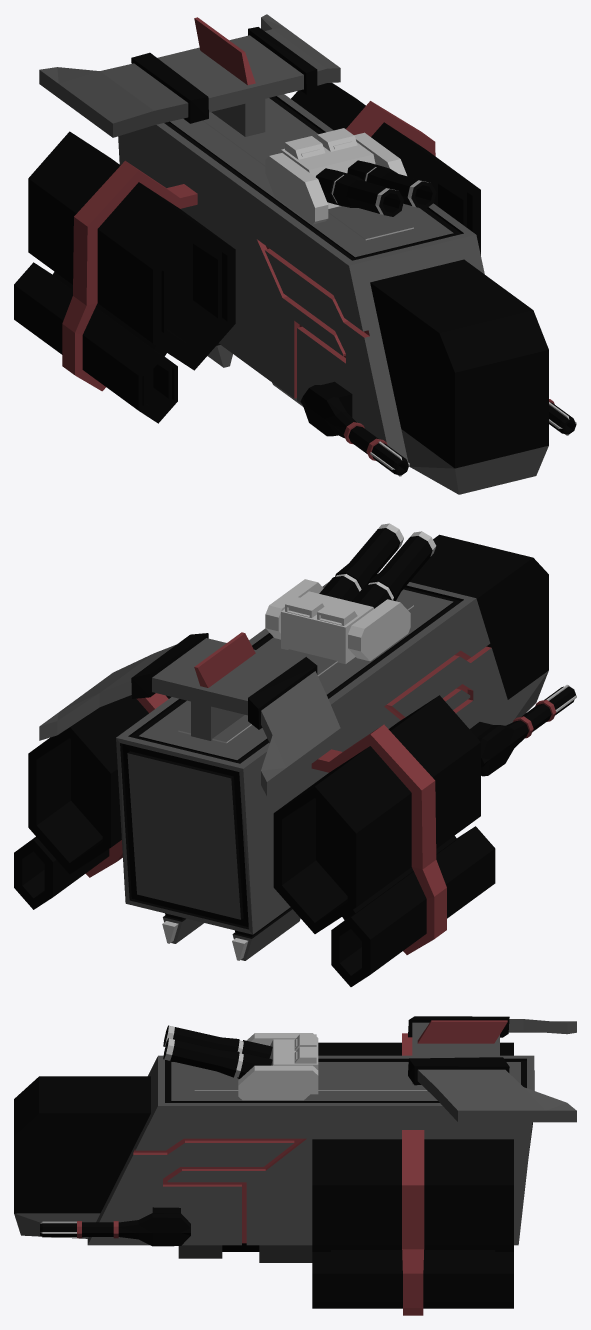
File: Spaceship15_2.fbx
3 renders of one model, top to bottom at view 1: azimuth 30°, elevation 25°; view 2: azimuth 150°, elevation 25°; view 3: azimuth 270°, elevation 25°, orthographic. The views are drawn at different scales.
Visible parts, largest first — view 1: Spaceship15_2; view 2: Spaceship15_2; view 3: Spaceship15_2.
Boxes of the visible parts, x1,y1,x2,y2 form: Spaceship15_2: (14,14,576,494); Spaceship15_2: (14,523,576,986); Spaceship15_2: (14,1016,576,1315).
Bounding box in the file's own units: 1927 × 1450 × 3131.
